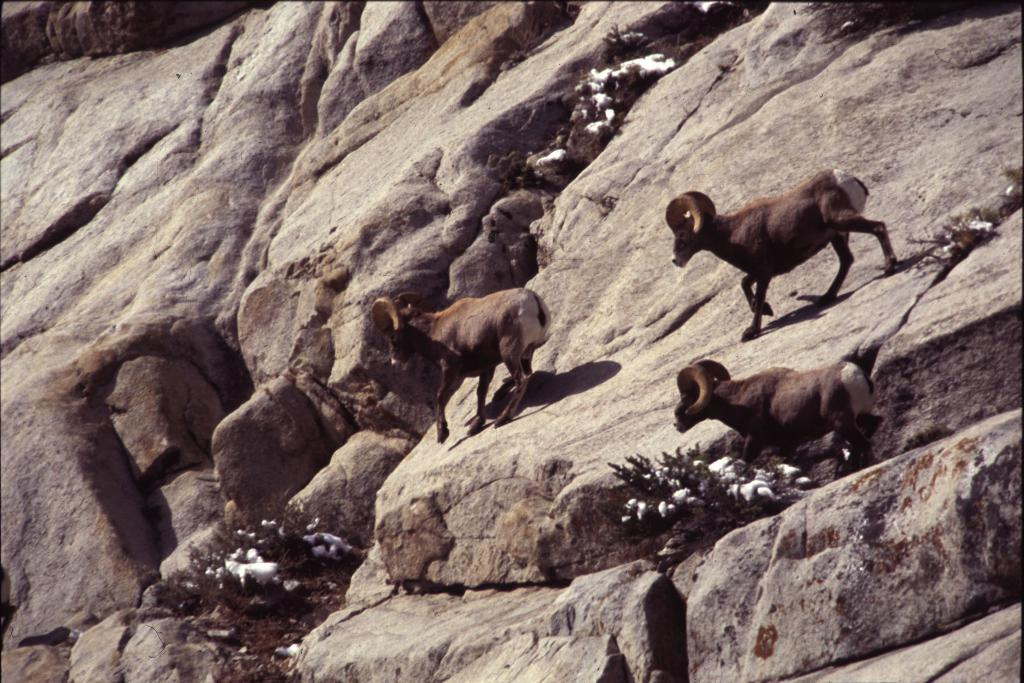sheep: (664, 167, 892, 342), (373, 291, 552, 441)
